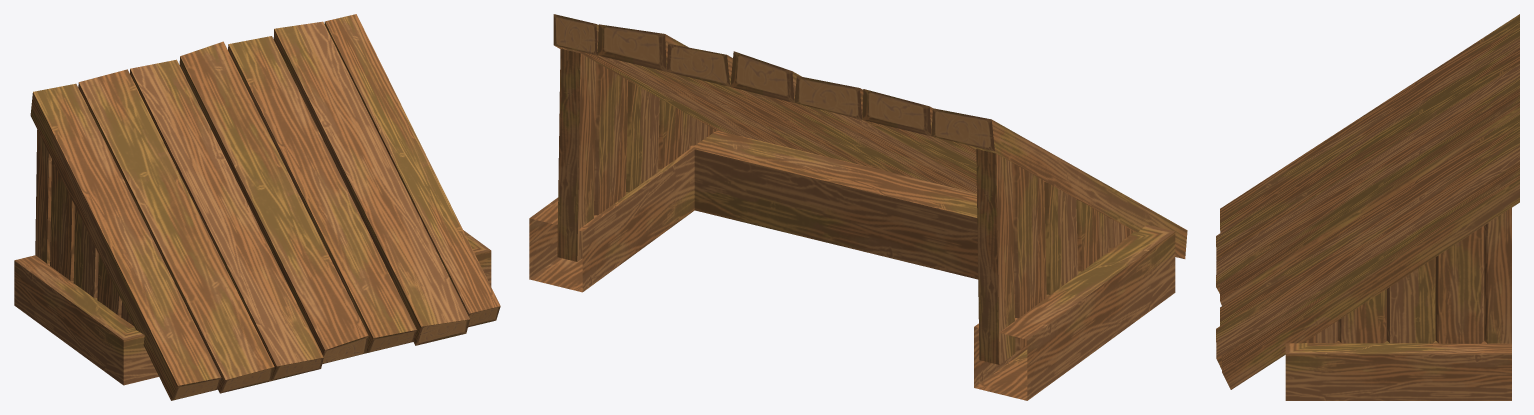
File: roof_wooden_2x1.glb
3 renders of one model, left to right at view 1: azimuth 30°, elevation 25°; view 2: azimuth 150°, elevation 25°; view 3: azimuth 270°, elevation 25°, orthographic. The views are drawn at different scales.
Visible parts, largest first — view 1: Roof_Wooden_2x1; view 2: Roof_Wooden_2x1; view 3: Roof_Wooden_2x1.
Part boxes in pixels (box(x1,y1,x2,y2)): Roof_Wooden_2x1: box(14, 14, 500, 400); Roof_Wooden_2x1: box(529, 14, 1187, 400); Roof_Wooden_2x1: box(1216, 14, 1519, 400).
Bounding box in the file's own units: 2.26 × 1.25 × 1.56.
Materials: 2 (2 with a texture image).
